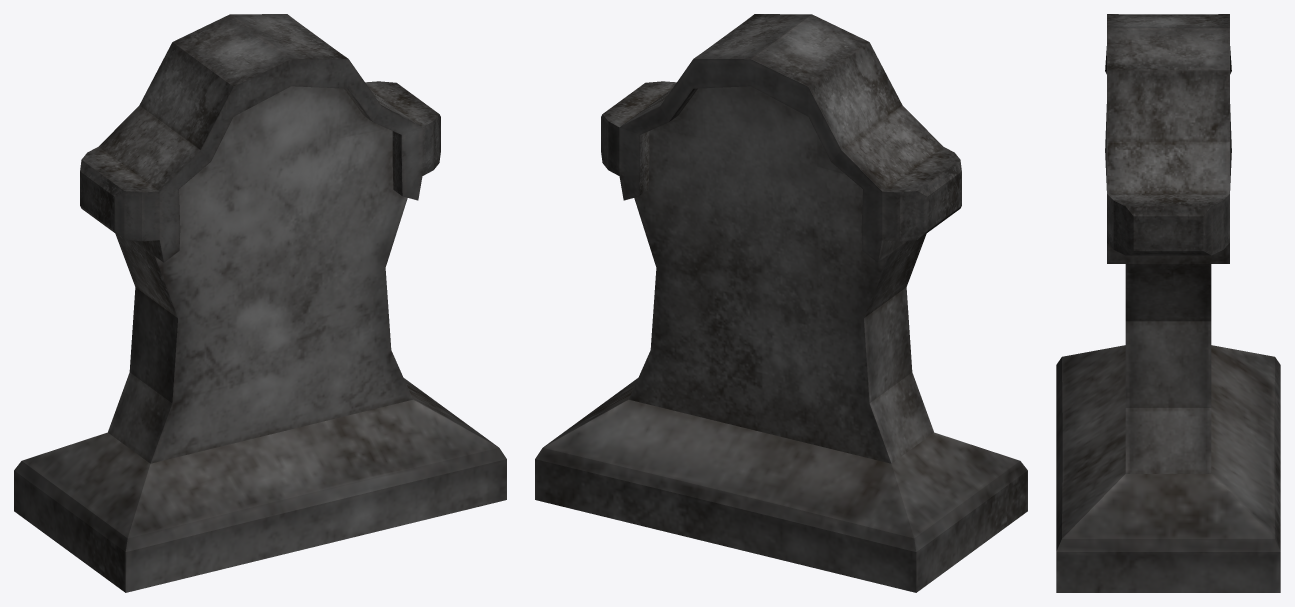
File: tombs_05.fbx
3 views of the same model, side by side, from view 1: azimuth 30°, elevation 25°; view 2: azimuth 150°, elevation 25°; view 3: azimuth 270°, elevation 25° (orthographic).
Parts seen in each view (by area): view 1: tombs_05; view 2: tombs_05; view 3: tombs_05.
Part boxes in pixels (x1,y1,x2,y2): tombs_05: (14, 14, 506, 592); tombs_05: (535, 14, 1027, 592); tombs_05: (1056, 14, 1280, 592).
Bounding box in the file's own units: 0.1364 × 0.1603 × 0.0692.
Materials: 1 (1 with a texture image).
